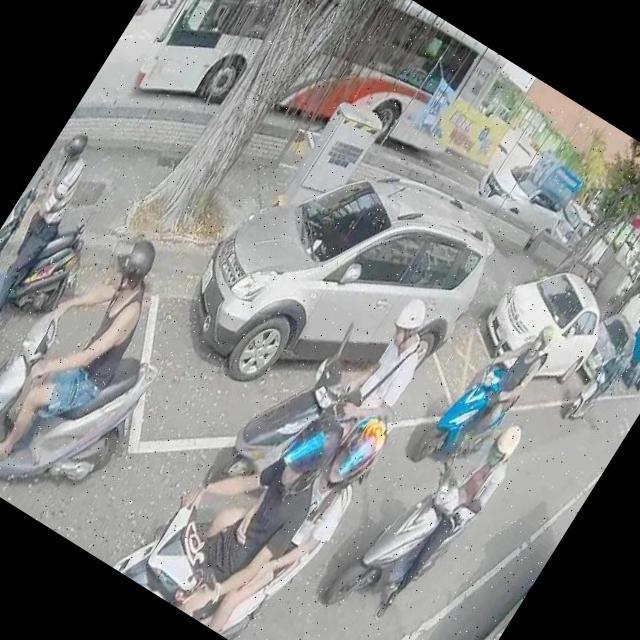person: (126, 365, 361, 640), (166, 375, 394, 640), (0, 206, 187, 497), (364, 400, 535, 636), (0, 116, 112, 357), (427, 302, 562, 474), (325, 288, 450, 446), (584, 341, 634, 404), (158, 0, 189, 8)
